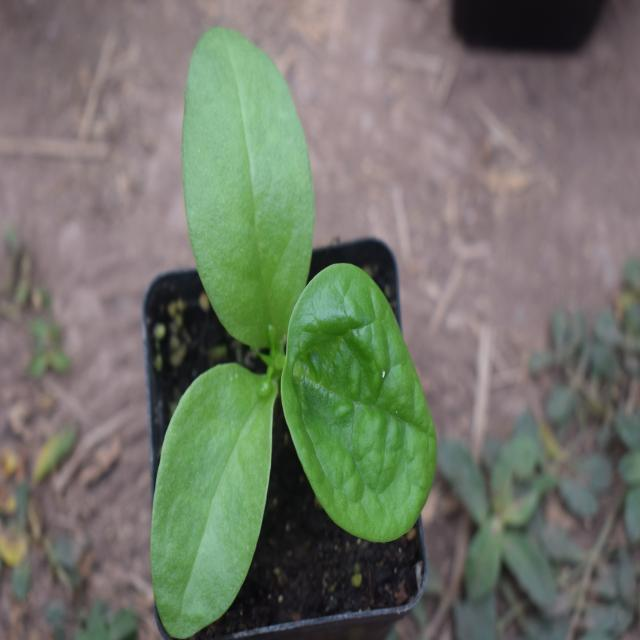Ceylon spinach: (121, 52, 459, 586)
